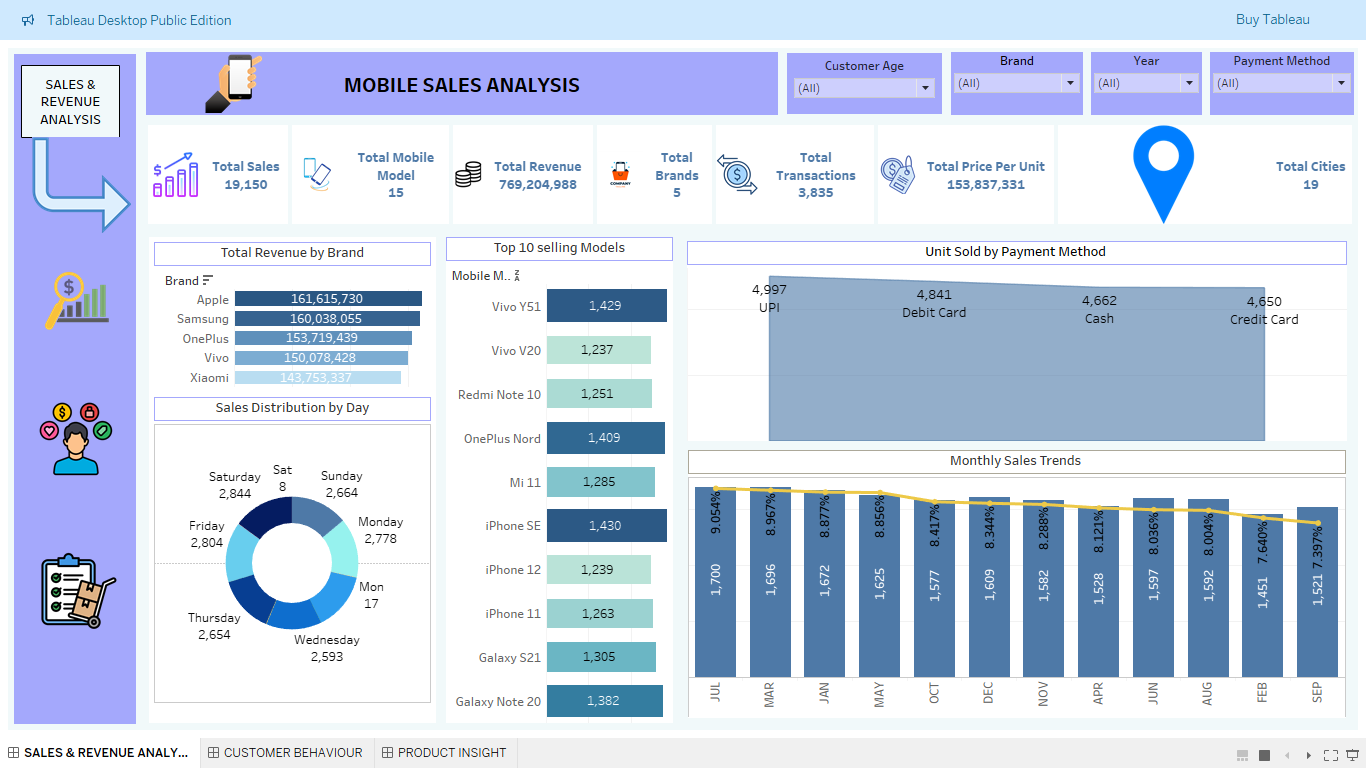

The dashboard page shown, as its layout file describes it:
{"tool":"tableau","page":{"name":"SALES & REVENUE ANALYSIS","canvas":[1000,1000],"units":"permille","ordinal":2},"visuals":[{"type":"text","box":[103.7,11.5,468.4,101.7]},{"type":"filter","title":"Total Revenue by Brand","param":"[federated.1yo039a0kqphna190egkz1xvh2p4].[none:Brand:nk]","box":[693.6,11.5,102.4,101.7]},{"type":"filter","title":"Total Revenue by Brand","param":"[federated.1yo039a0kqphna190egkz1xvh2p4].[none:Year:ok]","box":[795.9,11.5,86.8,101.7]},{"type":"filter","title":"Total Revenue by Brand","param":"[federated.1yo039a0kqphna190egkz1xvh2p4].[none:Payment Method:nk]","box":[882.7,11.5,111.4,101.7]},{"type":"filter","title":"Total Revenue by Brand","param":"[federated.1yo039a0kqphna190egkz1xvh2p4].[Customer Age (group)]","box":[576.1,18.6,113.5,87.4]},{"type":"image","param":"C:/Users/DELL/Documents/ITVEDANT/FINAL PROJECTS/TABLEAU FINAL PROJECT DOCUMENTS/","box":[115.2,19.9,111.7,85.1]},{"type":"text","box":[15.6,36.2,72.7,105.1]},{"type":"image","param":"C:/Users/DELL/Downloads/total-sales-1.png","box":[106.6,118.9,41.7,147.2]},{"type":"worksheet","title":"Total Sales","mark":"Automatic","box":[148.3,118.9,63.7,147.2]},{"type":"image","param":"C:/Users/DELL/Downloads/pngtree-smartphone-logo-design-blue-contact-png-image_55","box":[212,118.9,38.1,147.2]},{"type":"worksheet","title":"Total Mobile Models","mark":"Automatic","box":[250.1,118.9,79.8,147.2]},{"type":"image","param":"C:/Users/DELL/Downloads/total-revenue-64.png","box":[329.9,118.9,23.4,147.2]},{"type":"worksheet","title":"Total Revenue","mark":"Automatic","box":[353.3,118.9,82,147.2]},{"type":"image","param":"C:/Users/DELL/Downloads/flat-design-mobile-store-logo-template/7938816.jpg","box":[435.3,118.9,35.1,147.2]},{"type":"worksheet","title":"Total Brands","mark":"Automatic","box":[470.4,118.9,52,147.2]},{"type":"image","param":"C:/Users/DELL/Downloads/transaction.png","box":[522.4,118.9,32.2,147.2]},{"type":"worksheet","title":"Total Transaction","mark":"Automatic","box":[554.6,118.9,86.4,147.2]},{"type":"image","param":"C:/Users/DELL/Downloads/price.png","box":[641,118.9,30,147.2]},{"type":"worksheet","title":"Total Price Per Unit","mark":"Automatic","box":[671,118.9,101.8,147.2]},{"type":"image","param":"C:/Users/DELL/Downloads/location-icon-png-4240.png","box":[772.7,118.9,157,147.2]},{"type":"worksheet","title":"Total Cities","mark":"Automatic","box":[929.7,118.9,61.5,147.2]},{"type":"image","param":"C:/Users/DELL/Downloads/kindpng_102523.png","box":[23.4,139.5,72.7,139.5]},{"type":"worksheet","title":"Top 10 selling Models","mark":"Automatic","rows":["Mobile Model"],"cols":["Units Sold"],"box":[322.6,274.7,173.5,711]},{"type":"worksheet","title":"Total Revenue by Brand","mark":"Automatic","rows":["Brand"],"cols":["Calculation_919015832171958272"],"box":[108.8,281.8,210.1,222.1]},{"type":"worksheet","title":"Unit Sold by Payment Method ","mark":"Area","rows":["Units Sold"],"cols":["Payment Method"],"box":[499.7,281.8,489.2,298.4]},{"type":"dashboard-object","box":[22.5,315.2,67.5,119.6]},{"type":"worksheet","title":"Sales Distribution by Day","mark":"Pie","rows":["Calculation_150589146214727680","Calculation_150589146214727680"],"box":[108.8,503.9,210.1,474.6]},{"type":"dashboard-object","box":[20.8,512.7,70.1,115.9]},{"type":"worksheet","title":"Monthly Sales Trends","mark":"Line","rows":["Units Sold","Calculation_919015832171958272"],"cols":["Calculation_762515745756897289"],"box":[499.7,580.2,489.2,398.3]},{"type":"dashboard-object","box":[22.5,730.1,70.1,115.9]}]}

Visuals, with their boxes on the dashboard's canvas, which has no fixed pixel size, in thousandths of its width and height (x1, y1, x2, y2). These are canvas units, not pixel positions in the 1366x768 screenshot, which may show the page scaled, cropped or inside an application window:
text: BBox(104, 12, 572, 113)
"Total Revenue by Brand" filter: BBox(694, 12, 796, 113)
"Total Revenue by Brand" filter: BBox(796, 12, 883, 113)
"Total Revenue by Brand" filter: BBox(883, 12, 994, 113)
"Total Revenue by Brand" filter: BBox(576, 19, 690, 106)
image: BBox(115, 20, 227, 105)
text: BBox(16, 36, 88, 141)
image: BBox(107, 119, 148, 266)
"Total Sales" worksheet: BBox(148, 119, 212, 266)
image: BBox(212, 119, 250, 266)
"Total Mobile Models" worksheet: BBox(250, 119, 330, 266)
image: BBox(330, 119, 353, 266)
"Total Revenue" worksheet: BBox(353, 119, 435, 266)
image: BBox(435, 119, 470, 266)
"Total Brands" worksheet: BBox(470, 119, 522, 266)
image: BBox(522, 119, 555, 266)
"Total Transaction" worksheet: BBox(555, 119, 641, 266)
image: BBox(641, 119, 671, 266)
"Total Price Per Unit" worksheet: BBox(671, 119, 773, 266)
image: BBox(773, 119, 930, 266)
"Total Cities" worksheet: BBox(930, 119, 991, 266)
image: BBox(23, 140, 96, 279)
"Top 10 selling Models" worksheet: BBox(323, 275, 496, 986)
"Total Revenue by Brand" worksheet: BBox(109, 282, 319, 504)
"Unit Sold by Payment Method " worksheet (Area marks): BBox(500, 282, 989, 580)
dashboard-object: BBox(22, 315, 90, 435)
"Sales Distribution by Day" worksheet (Pie marks): BBox(109, 504, 319, 978)
dashboard-object: BBox(21, 513, 91, 629)
"Monthly Sales Trends" worksheet (Line marks): BBox(500, 580, 989, 978)
dashboard-object: BBox(22, 730, 93, 846)
